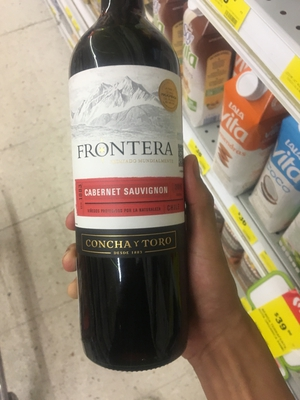frontera cabernet sauvignon: (64, 9, 197, 360)
